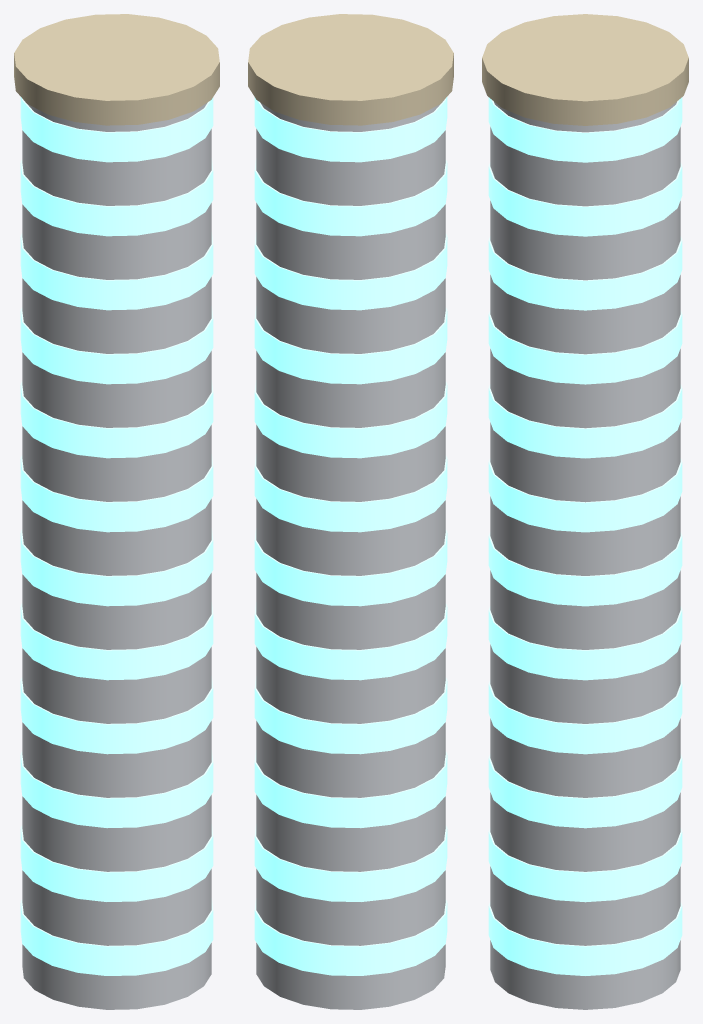
The model's file is tower_2040.glb.
The picture shows the model from 3 angles, left to right: view 1: azimuth 30°, elevation 25°; view 2: azimuth 150°, elevation 25°; view 3: azimuth 270°, elevation 25°; orthographic projection.
Visible parts, largest first — view 1: Shaft, Crown, Band_9, Band_10, Band_1, Band_4, Band_7, Band_8, Band_0, Band_2, Band_3, Band_5 (+2 smaller); view 2: Shaft, Crown, Band_9, Band_10, Band_1, Band_4, Band_7, Band_8, Band_0, Band_2, Band_3, Band_5 (+2 smaller); view 3: Shaft, Crown, Band_5, Band_9, Band_2, Band_3, Band_8, Band_10, Band_1, Band_4, Band_6, Band_7 (+2 smaller).
Part boxes in pixels (left/top/right/bottom): Shaft: left=22, top=100, right=211, bottom=1009; Crown: left=14, top=14, right=219, bottom=125; Band_9: left=20, top=232, right=213, bottom=310; Band_10: left=20, top=158, right=213, bottom=236; Band_1: left=20, top=824, right=213, bottom=901; Band_4: left=20, top=602, right=213, bottom=680; Band_7: left=20, top=380, right=213, bottom=458; Band_8: left=20, top=306, right=213, bottom=384; Band_0: left=20, top=898, right=213, bottom=975; Band_2: left=20, top=750, right=213, bottom=828; Band_3: left=20, top=676, right=213, bottom=754; Band_5: left=20, top=528, right=213, bottom=606; Shaft: left=256, top=100, right=445, bottom=1009; Crown: left=248, top=14, right=453, bottom=125; Band_9: left=254, top=232, right=447, bottom=310; Band_10: left=254, top=158, right=447, bottom=236; Band_1: left=254, top=824, right=447, bottom=901; Band_4: left=254, top=602, right=447, bottom=680; Band_7: left=254, top=380, right=447, bottom=458; Band_8: left=254, top=306, right=447, bottom=384; Band_0: left=254, top=898, right=447, bottom=975; Band_2: left=254, top=750, right=447, bottom=828; Band_3: left=254, top=676, right=447, bottom=754; Band_5: left=254, top=528, right=447, bottom=606; Shaft: left=490, top=102, right=680, bottom=1009; Crown: left=482, top=14, right=688, bottom=125; Band_5: left=488, top=532, right=682, bottom=606; Band_9: left=488, top=236, right=682, bottom=310; Band_2: left=488, top=754, right=682, bottom=828; Band_3: left=488, top=680, right=682, bottom=754; Band_8: left=488, top=310, right=682, bottom=384; Band_10: left=488, top=162, right=682, bottom=236; Band_1: left=488, top=828, right=682, bottom=902; Band_4: left=488, top=606, right=682, bottom=680; Band_6: left=488, top=458, right=682, bottom=532; Band_7: left=488, top=384, right=682, bottom=458.
Size of the model in its own units: 0.76 by 3.7 by 0.76.
